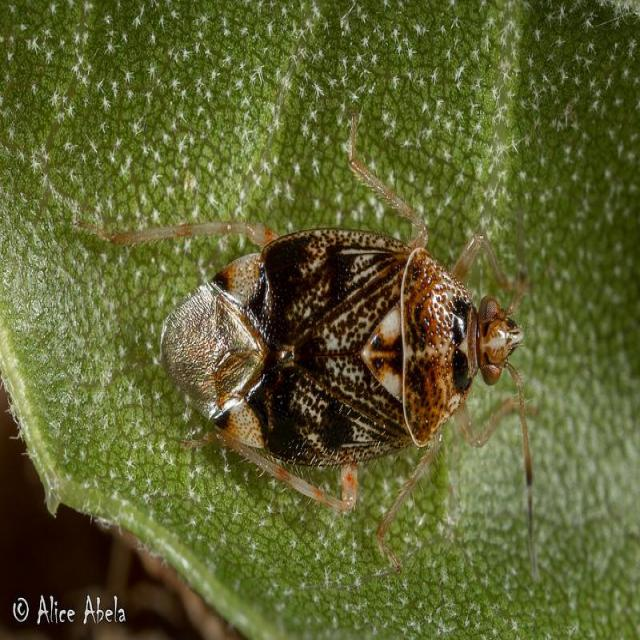Miridae-Adult-: (88, 154, 531, 514)
